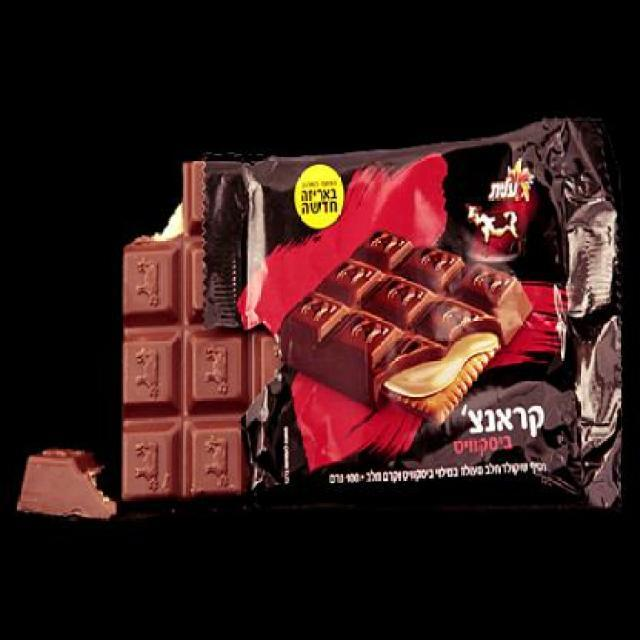Chocolate bar: (193, 112, 633, 510)
Chocolate bar packaged: (117, 152, 245, 516)
